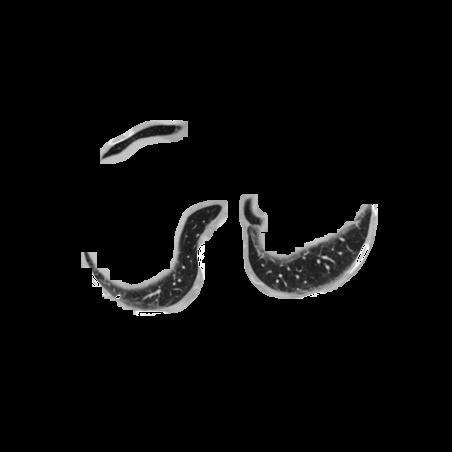PN: (116, 295, 120, 299)
